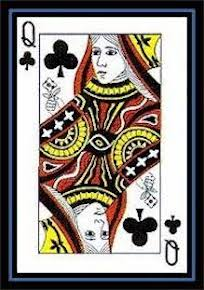QueenOfClubs: (12, 10, 193, 280)
